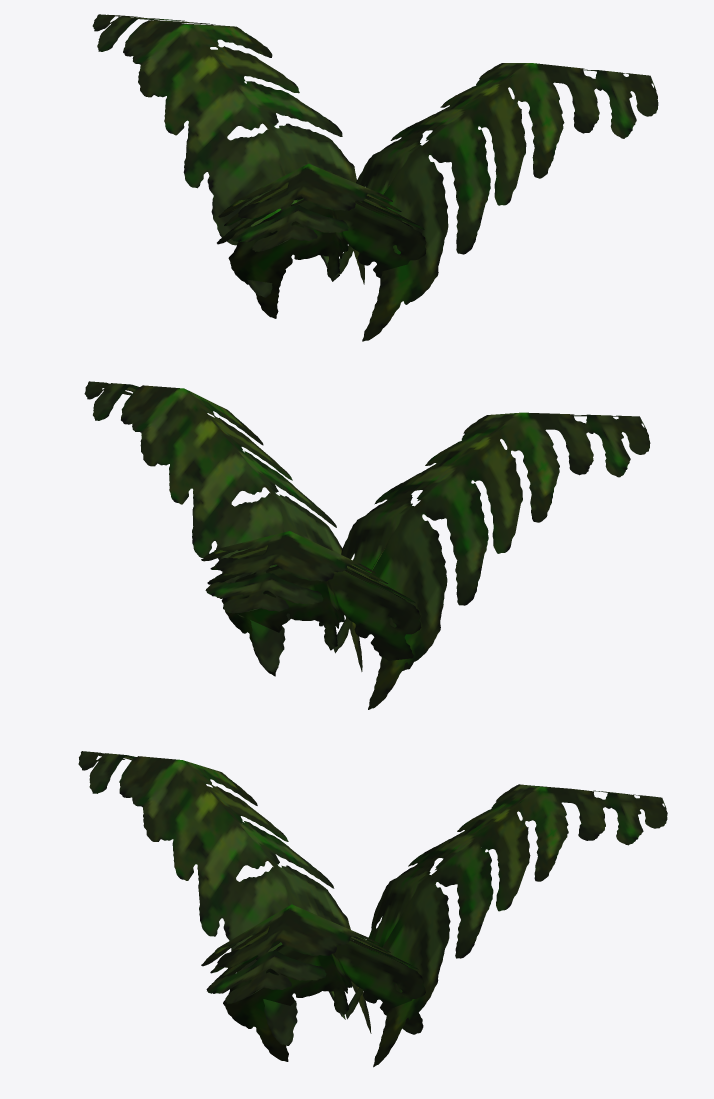
File: fern_3.fbx
3 renders of one model, top to bottom at view 1: azimuth 30°, elevation 25°; view 2: azimuth 150°, elevation 25°; view 3: azimuth 270°, elevation 25°, orthographic. The views are drawn at different scales.
Visible parts, largest first — view 1: fern3; view 2: fern3; view 3: fern3.
Boxes of the visible parts, x1=… form: fern3: x1=92, y1=14, x2=658, y2=341; fern3: x1=84, y1=381, x2=650, y2=709; fern3: x1=78, y1=751, x2=667, y2=1067.
Bounding box in the file's own units: 147 × 64.44 × 153.
